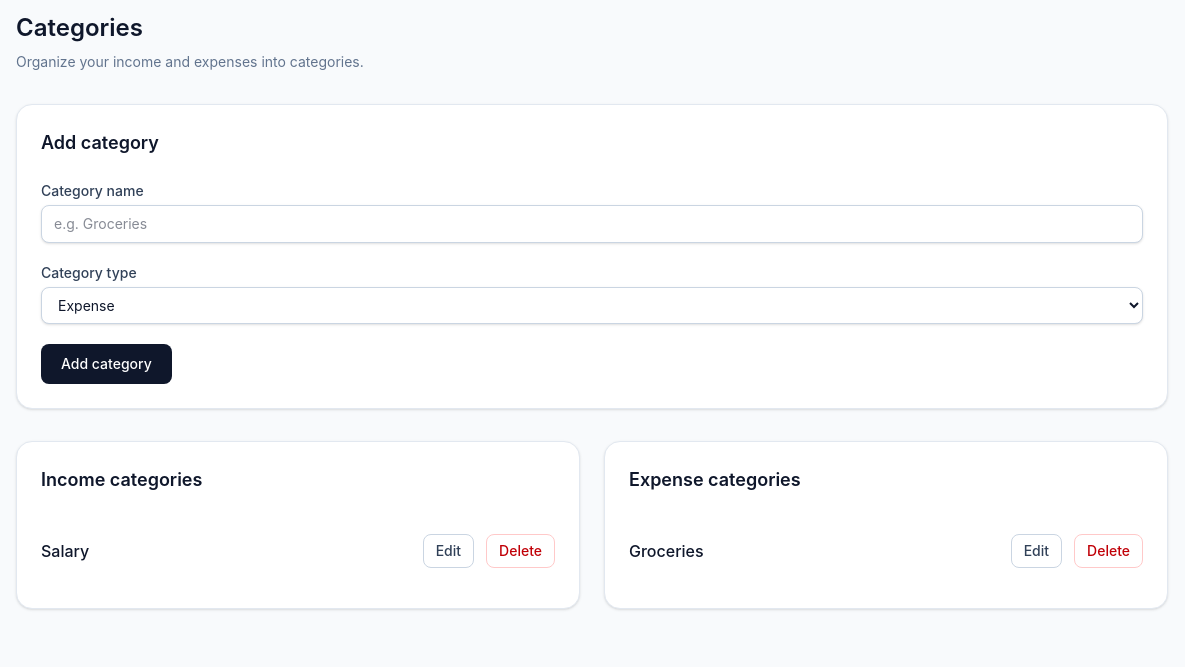
Test: CategoriesPage › displays an error when category creation fails
This screenshot has width=1185, height=667.
Type "Groceries" into the field labelled "Category name" at coordinates (592, 224), box 41,205 -> 1143,243
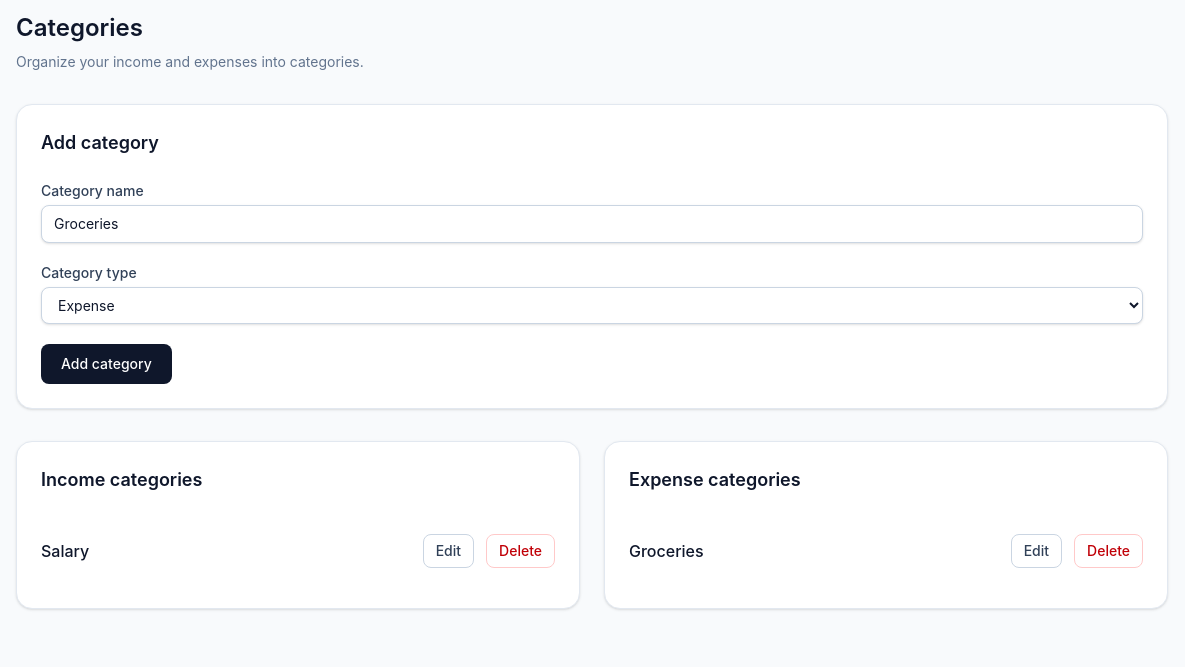
Click the button "Add category" at coordinates (106, 364), box 41,344 -> 172,384
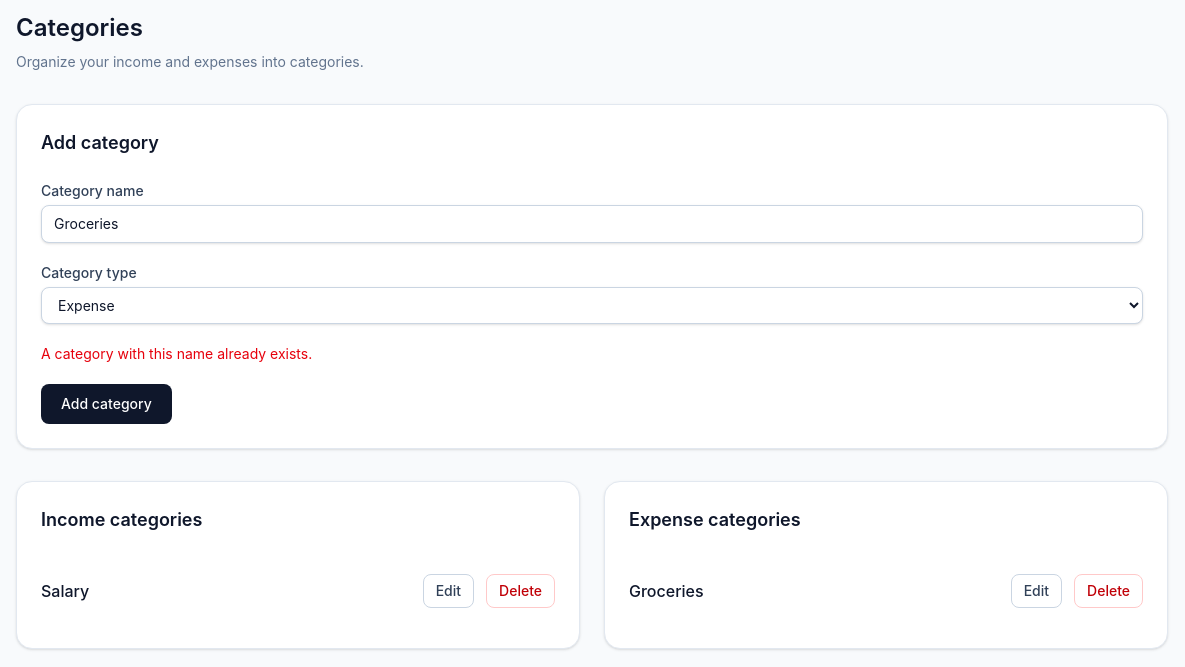
Result: the message reads "A category with this name already exists." at 41,345 -> 312,362
